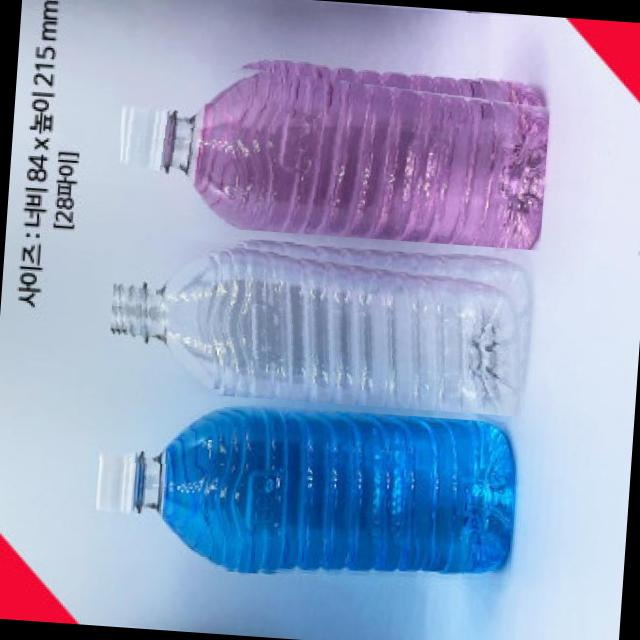plastic bottle: (113, 52, 552, 248), (91, 393, 518, 590), (106, 227, 536, 416)
